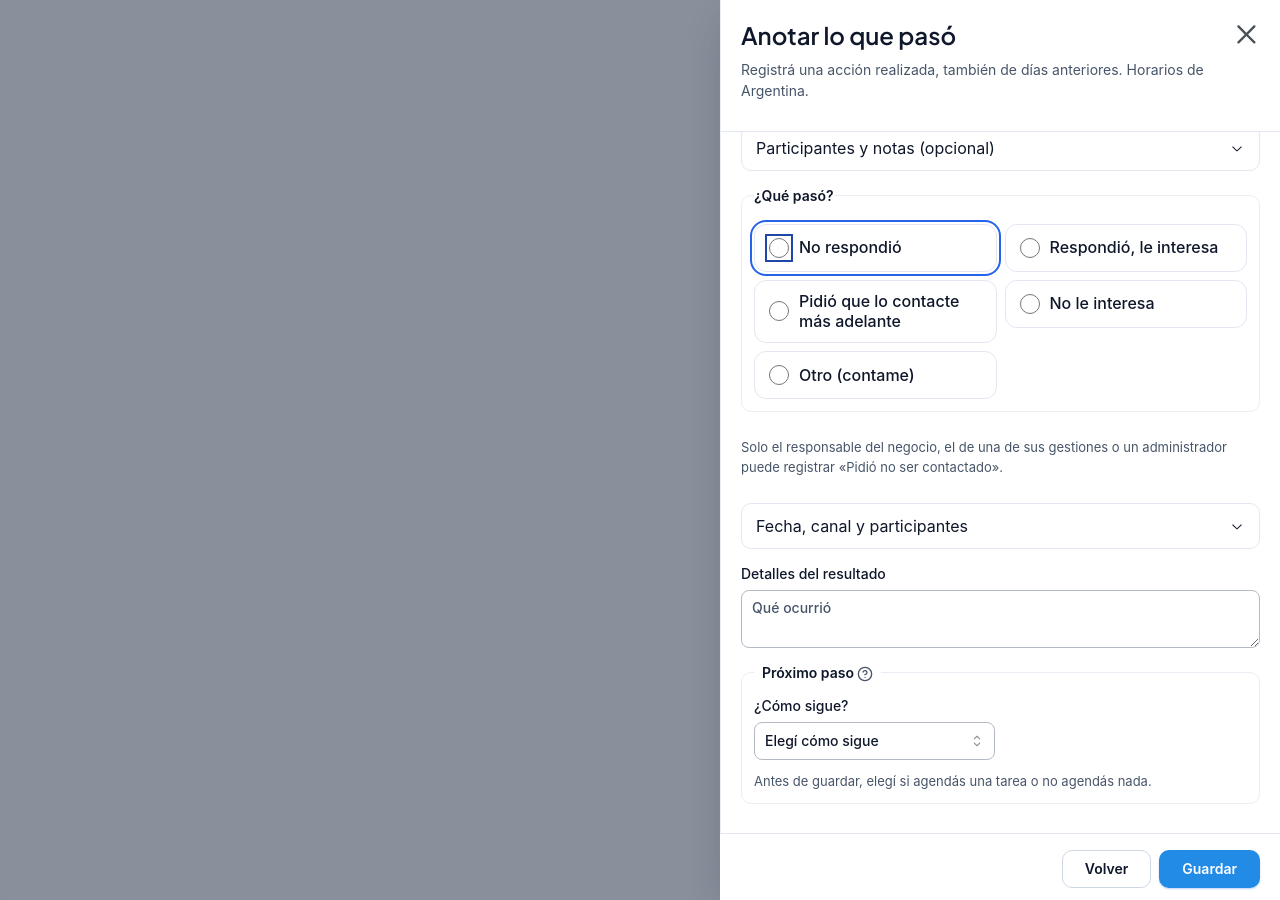
D5 warning for «Ya tengo otra tarea agendada» › warns without blocking when the business has no other visible pending task
(page scrolled)
Select "No agendar nada" in the dropdown labelled "¿Cómo sigue?" at (874, 741), box [754,722,994,760]
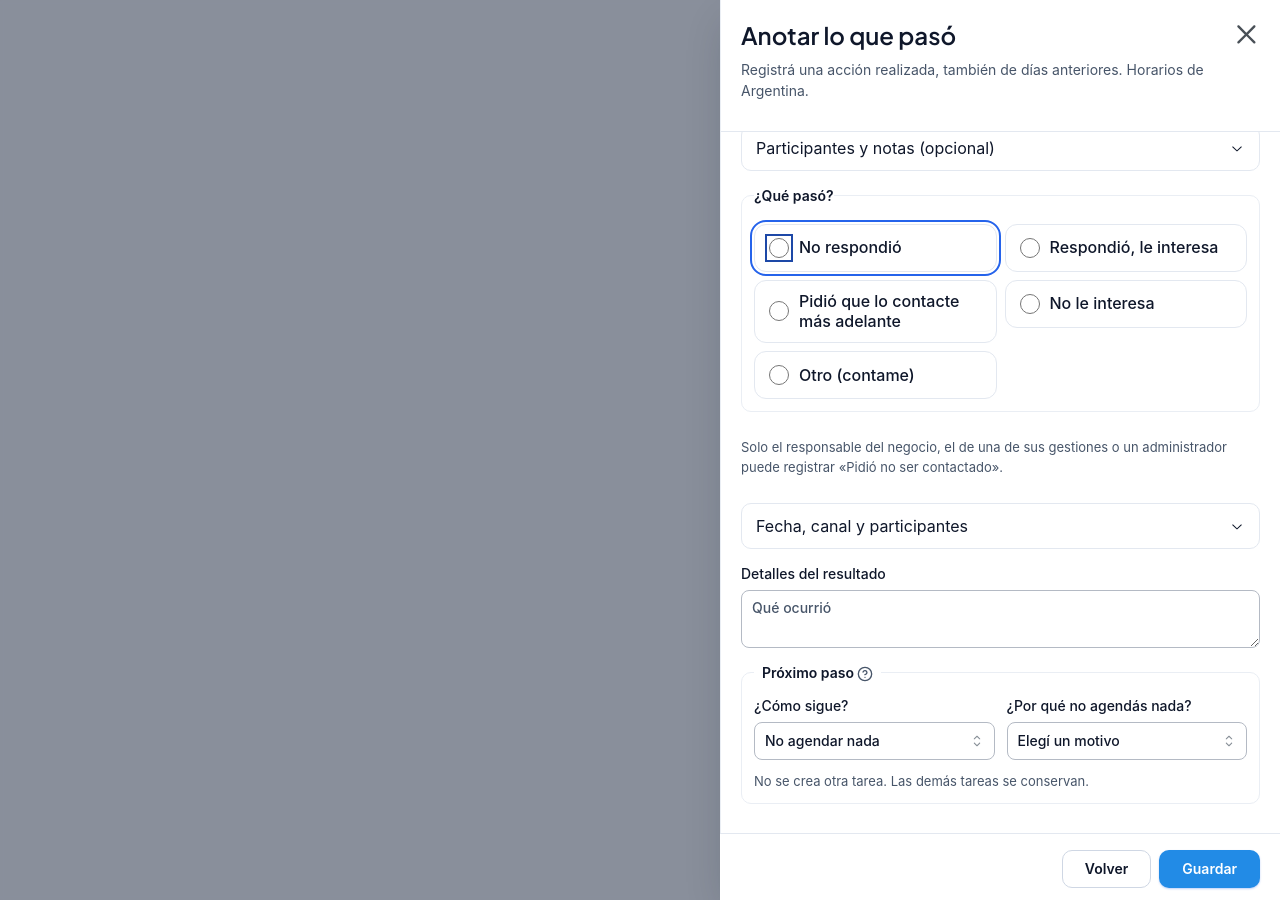
Select "Ya tengo otra tarea agendada" in the dropdown labelled "¿Por qué no agendás nada?" at (1127, 741), box [1006,722,1247,760]
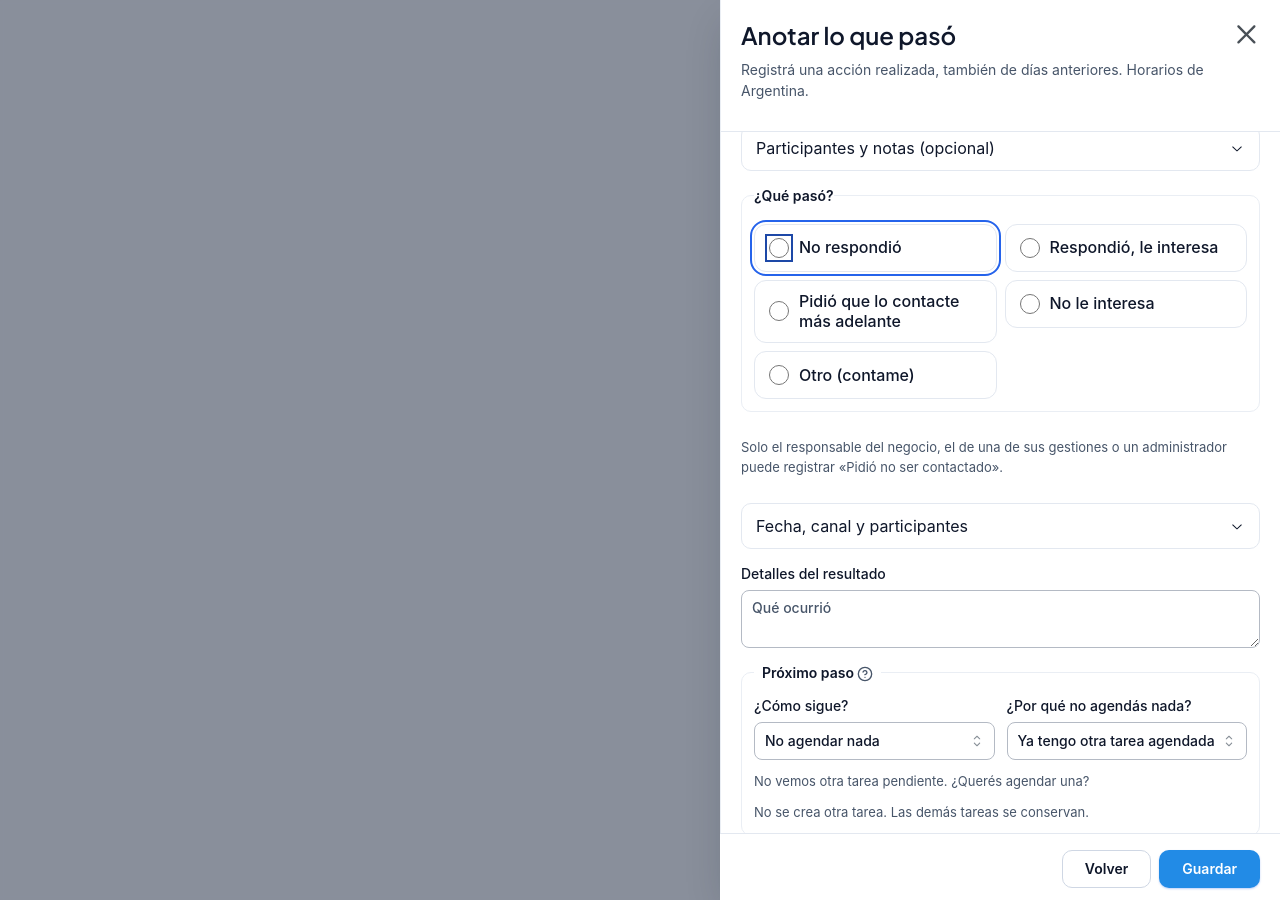
Expected: the text "No vemos otra tarea pendiente. ¿Querés agendar una?" is shown, [754,773,1089,789]
